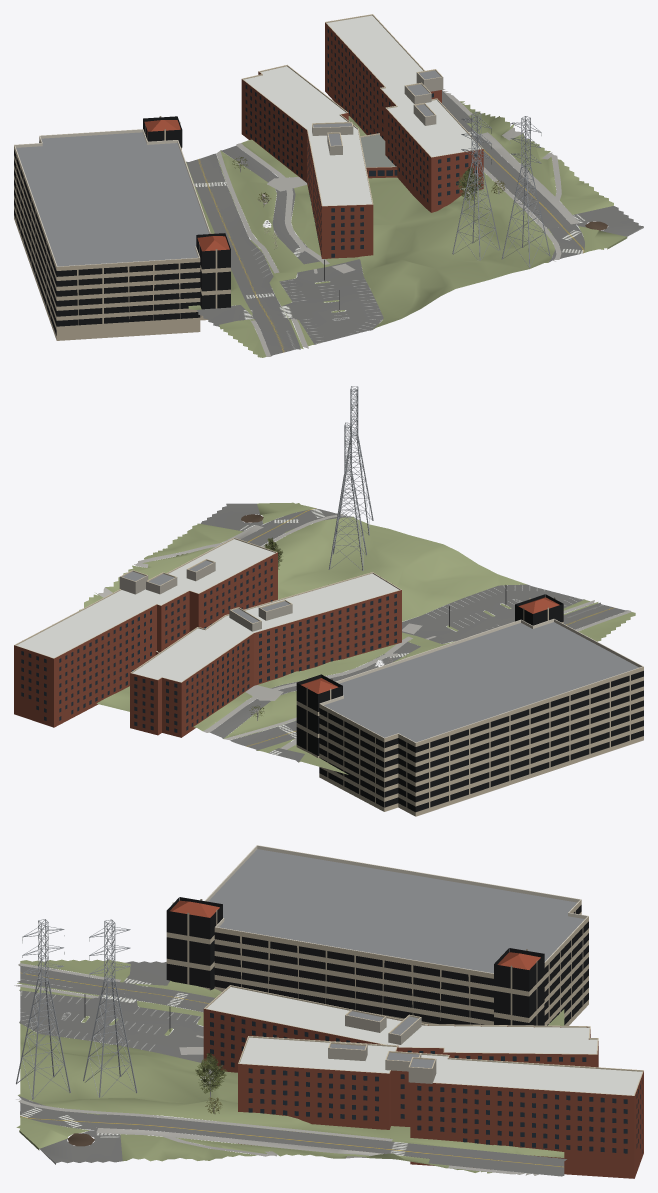
3 renders of one model, top to bottom at view 1: azimuth 30°, elevation 25°; view 2: azimuth 150°, elevation 25°; view 3: azimuth 270°, elevation 25°, orthographic. The views are drawn at different scales.
Visible parts, largest first — view 1: SW_ground_northeast_asphalt_0_3_UNVERIFIED, SW_Ne_buildings_NE_bldg_CarParc_Diem_deck_UNVERIFIED, SW_Ne_buildings_NE_bldg_Dinallo_east_wing_UNVERIFIED, SW_ground_northeast_asphalt_0_3, SW_ground_northeast_concrete_0_3, SW_Ne_power_NE_power_tower_east_UNVERIFIED, SW_Ne_buildings_NE_bldg_Dinallo_east_roof_box_1_UNVERIFIED, SW_Ne_buildings_NE_bldg_CarParc_Diem_stair_tower_SE_UNVERIFI, SW_Ne_buildings_NE_bldg_Dinallo_link_UNVERIFIED, SW_Ne_trees_Tree_065_UNVERIFIEDspecies; view 2: SW_Ne_buildings_NE_bldg_CarParc_Diem_deck_UNVERIFIED, SW_Ne_buildings_NE_bldg_Dinallo_east_wing_UNVERIFIED, SW_ground_northeast_asphalt_0_3_UNVERIFIED, SW_Ne_buildings_NE_bldg_Dinallo_east_roof_box_1_UNVERIFIED, SW_ground_northeast_concrete_0_3, SW_ground_northeast_asphalt_0_3, SW_Ne_power_NE_power_tower_east_UNVERIFIED, SW_Ne_buildings_NE_bldg_CarParc_Diem_stair_tower_SE_UNVERIFI; view 3: SW_Ne_buildings_NE_bldg_CarParc_Diem_deck_UNVERIFIED, SW_Ne_buildings_NE_bldg_Dinallo_east_wing_UNVERIFIED, SW_ground_northeast_asphalt_0_3_UNVERIFIED, SW_ground_northeast_asphalt_0_3, SW_Ne_power_NE_power_tower_east_UNVERIFIED, SW_Ne_buildings_NE_bldg_Dinallo_east_roof_box_1_UNVERIFIED, SW_ground_northeast_concrete_0_3, SW_Ne_buildings_NE_bldg_CarParc_Diem_stair_tower_SE_UNVERIFI, SW_Ne_trees_Tree_065_UNVERIFIEDspecies.
Part boxes in pixels (box(x1,y1,x2,y2)): SW_ground_northeast_asphalt_0_3_UNVERIFIED: box(186, 91, 643, 357); SW_Ne_buildings_NE_bldg_CarParc_Diem_deck_UNVERIFIED: box(14, 70, 440, 340); SW_Ne_buildings_NE_bldg_Dinallo_east_wing_UNVERIFIED: box(241, 15, 483, 258); SW_ground_northeast_asphalt_0_3: box(186, 123, 571, 315); SW_ground_northeast_concrete_0_3: box(193, 89, 579, 356); SW_Ne_power_NE_power_tower_east_UNVERIFIED: box(452, 112, 550, 267); SW_Ne_buildings_NE_bldg_Dinallo_east_roof_box_1_UNVERIFIED: box(242, 14, 483, 206); SW_Ne_buildings_NE_bldg_CarParc_Diem_stair_tower_SE_UNVERIFI: box(144, 120, 229, 251); SW_Ne_buildings_NE_bldg_Dinallo_link_UNVERIFIED: box(360, 134, 395, 167); SW_Ne_trees_Tree_065_UNVERIFIEDspecies: box(455, 167, 482, 209); SW_Ne_buildings_NE_bldg_CarParc_Diem_deck_UNVERIFIED: box(122, 560, 643, 816); SW_Ne_buildings_NE_bldg_Dinallo_east_wing_UNVERIFIED: box(14, 539, 401, 737); SW_ground_northeast_asphalt_0_3_UNVERIFIED: box(79, 502, 635, 774); SW_Ne_buildings_NE_bldg_Dinallo_east_roof_box_1_UNVERIFIED: box(14, 537, 401, 682); SW_ground_northeast_concrete_0_3: box(98, 514, 631, 749); SW_ground_northeast_asphalt_0_3: box(210, 526, 420, 750); SW_Ne_power_NE_power_tower_east_UNVERIFIED: box(328, 386, 373, 570); SW_Ne_buildings_NE_bldg_CarParc_Diem_stair_tower_SE_UNVERIFI: box(301, 597, 559, 693); SW_Ne_buildings_NE_bldg_CarParc_Diem_deck_UNVERIFIED: box(166, 845, 588, 1068); SW_Ne_buildings_NE_bldg_Dinallo_east_wing_UNVERIFIED: box(203, 987, 643, 1178); SW_ground_northeast_asphalt_0_3_UNVERIFIED: box(16, 959, 566, 1176); SW_ground_northeast_asphalt_0_3: box(95, 984, 434, 1158); SW_Ne_power_NE_power_tower_east_UNVERIFIED: box(16, 919, 137, 1099); SW_Ne_buildings_NE_bldg_Dinallo_east_roof_box_1_UNVERIFIED: box(204, 985, 643, 1095); SW_ground_northeast_concrete_0_3: box(14, 963, 538, 1175); SW_Ne_buildings_NE_bldg_CarParc_Diem_stair_tower_SE_UNVERIFI: box(170, 900, 540, 969); SW_Ne_trees_Tree_065_UNVERIFIEDspecies: box(195, 1052, 226, 1099).
Bounding box in the file's own units: 204 × 75.65 × 185.
42 materials, 18 textured.
